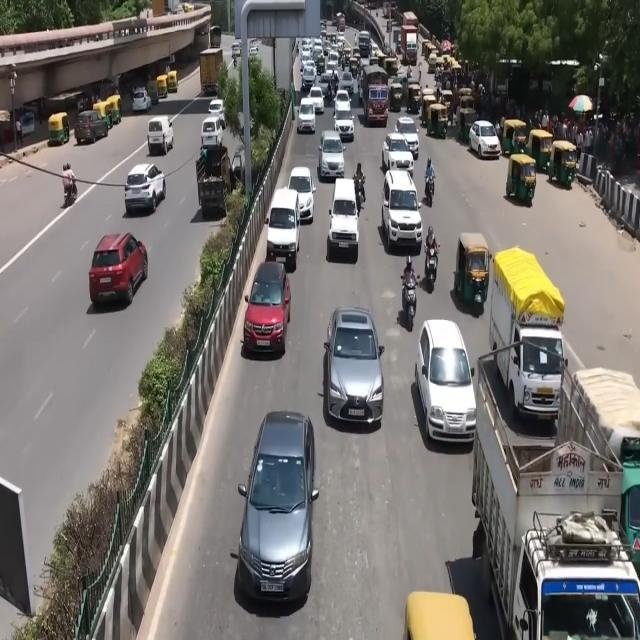auto: (454, 231, 489, 307), (505, 152, 537, 206), (550, 139, 578, 187), (526, 128, 553, 174), (502, 118, 528, 159), (458, 98, 478, 144), (426, 99, 448, 139), (48, 112, 70, 146), (93, 100, 113, 130), (388, 78, 405, 112), (439, 87, 454, 125), (105, 94, 122, 126), (407, 81, 422, 116), (384, 52, 400, 77), (146, 78, 159, 105), (371, 47, 385, 72), (340, 44, 352, 69), (156, 74, 168, 99), (166, 70, 178, 94), (449, 59, 462, 81), (427, 50, 438, 73), (434, 55, 446, 74), (351, 48, 361, 69), (442, 54, 451, 70)
bike-auto: (401, 255, 418, 313), (425, 227, 440, 275), (354, 162, 366, 220), (62, 162, 77, 207), (424, 157, 436, 197), (332, 70, 339, 98), (339, 52, 346, 72)
